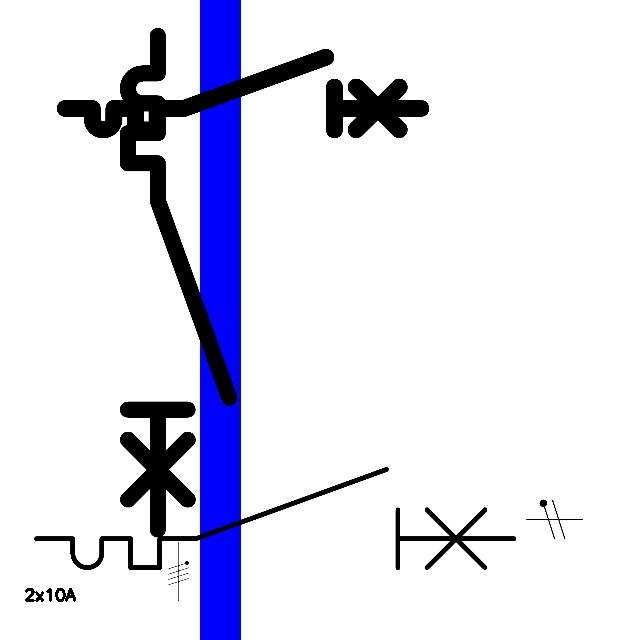interruptor_termomagnetico: (115, 23, 242, 542), (24, 457, 526, 580), (56, 48, 430, 139)
